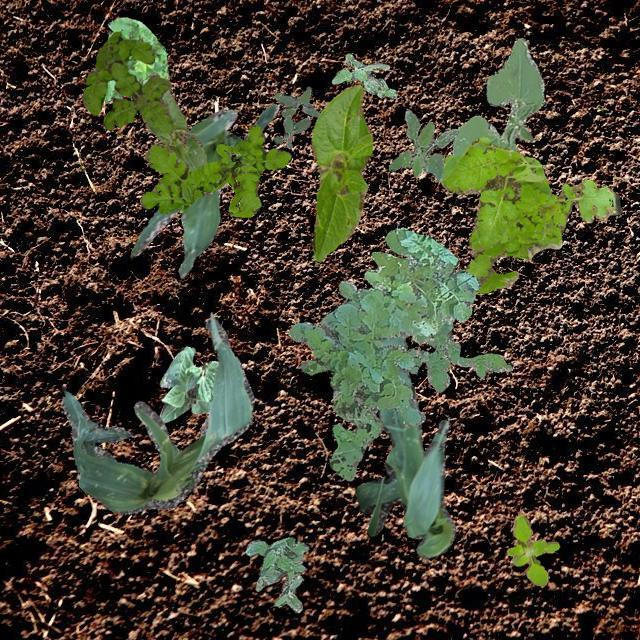crop: (60, 312, 254, 514), (130, 102, 278, 276), (354, 333, 454, 558), (452, 36, 544, 156), (310, 84, 372, 260), (144, 86, 210, 194), (158, 346, 218, 422)
weed: (286, 226, 479, 479), (440, 136, 620, 294), (140, 124, 290, 216), (82, 31, 172, 132), (407, 318, 511, 392), (104, 15, 168, 101), (388, 109, 457, 180), (245, 536, 308, 612), (506, 514, 558, 584), (330, 52, 396, 98), (274, 86, 318, 148)
